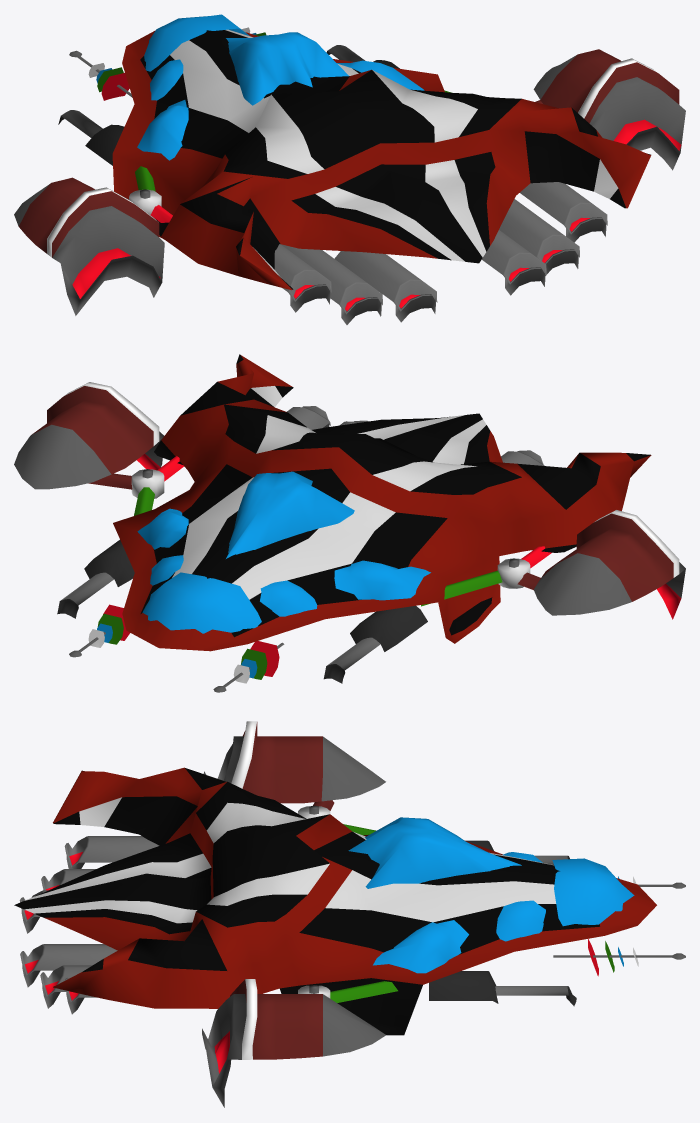
The model's file is MHFinal2.fbx.
3 views of the same model, one above another, from view 1: azimuth 30°, elevation 25°; view 2: azimuth 150°, elevation 25°; view 3: azimuth 270°, elevation 25° (orthographic).
Parts seen in each view (by area): view 1: Plane; view 2: Plane; view 3: Plane.
Boxes of the visible parts, left/top/right/bottom form: Plane: left=14, top=14, right=685, bottom=324; Plane: left=14, top=354, right=685, bottom=692; Plane: left=14, top=721, right=685, bottom=1107.
Size of the model in its own units: 869 by 180 by 803.
